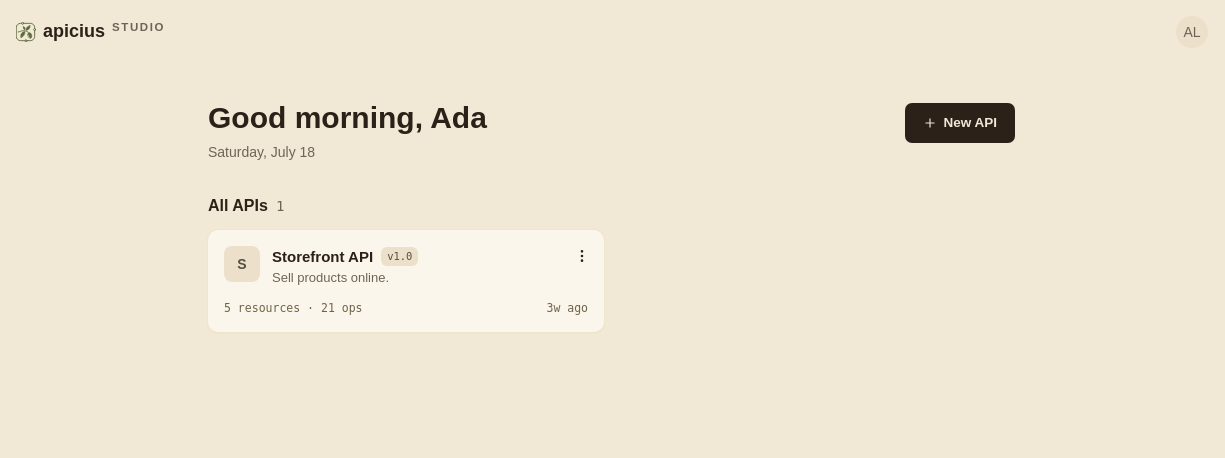
Test: opening a card enters the editor
The width and height of the screenshot is (1225, 458).
Click the link named "Storefront API".
click(406, 281)  # box left=208, top=230, right=604, bottom=332
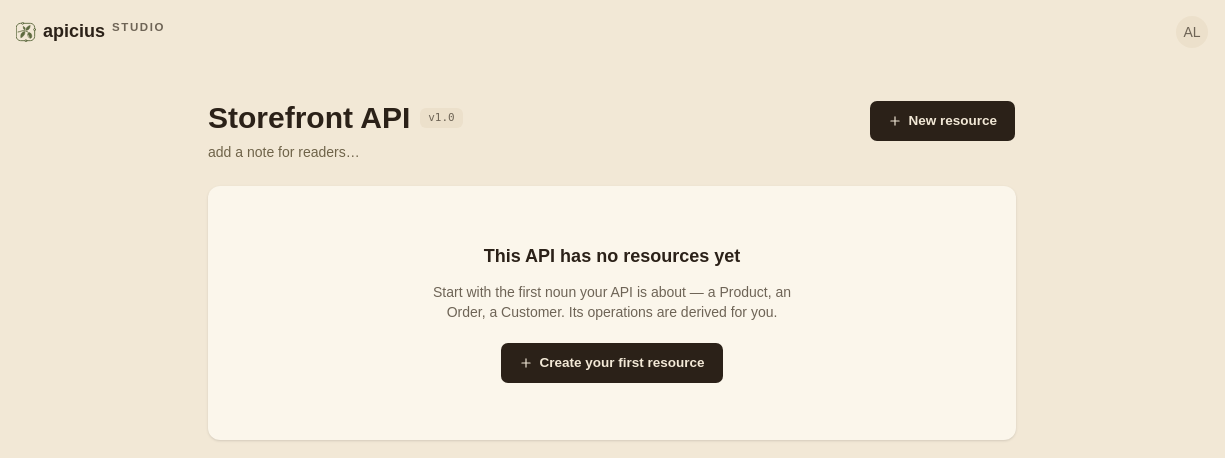
Check: the heading "Storefront API" is shown, box left=208, top=100, right=410, bottom=136
Check: the heading "This API has no resources yet" is shown, box left=484, top=242, right=740, bottom=270
